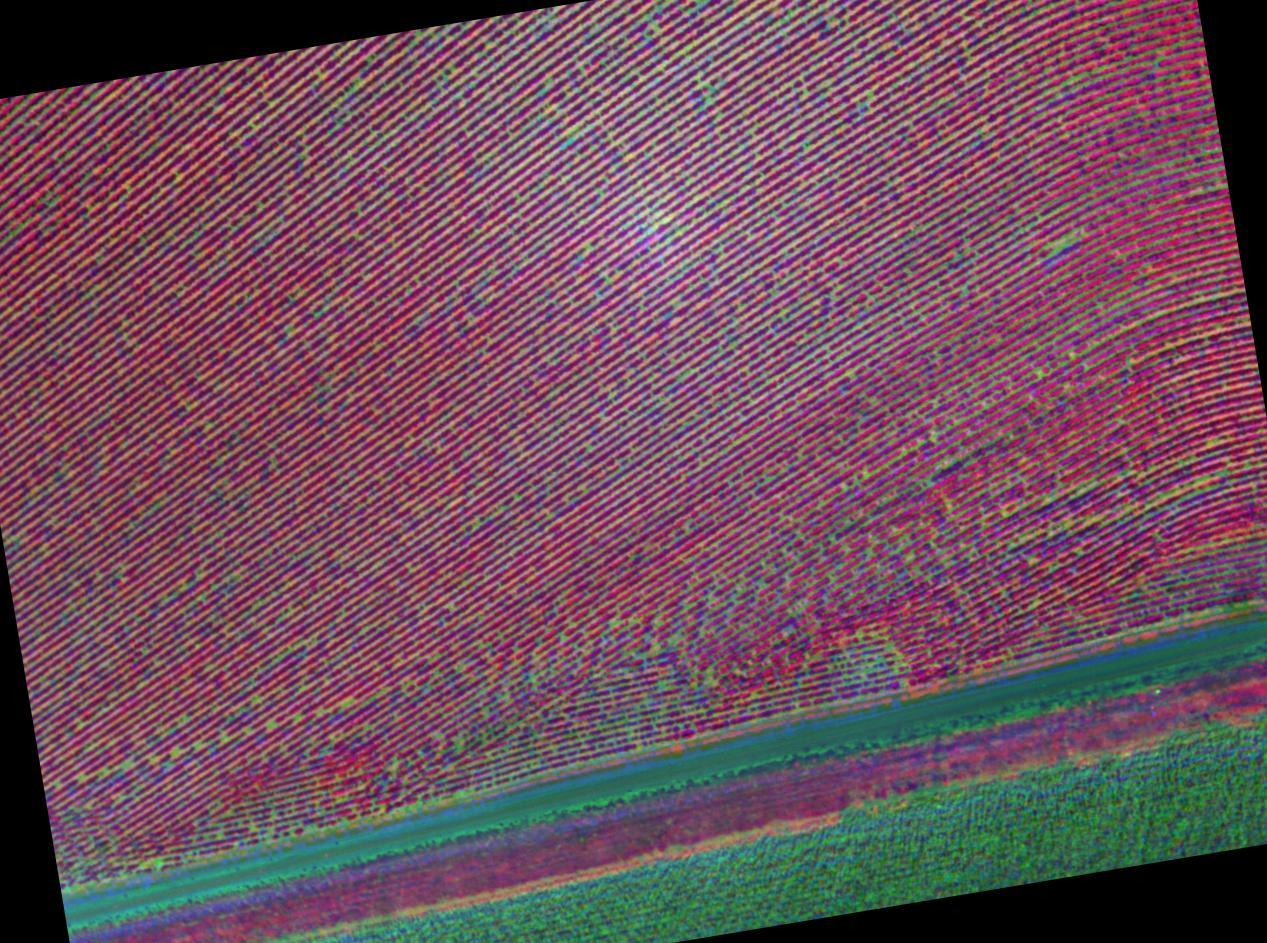dc: (124, 763, 128, 768), (586, 245, 590, 249), (847, 371, 851, 375), (269, 724, 273, 728), (174, 750, 178, 754), (436, 734, 440, 737), (458, 747, 461, 751), (864, 474, 867, 477)
